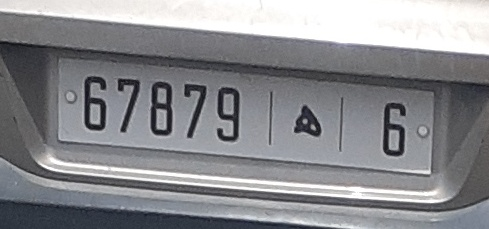6: (378, 96, 408, 159), (81, 71, 109, 135)
7: (180, 79, 209, 142), (115, 74, 143, 137)
8: (146, 76, 175, 140)
9: (212, 81, 245, 148)
h: (288, 99, 327, 145)
